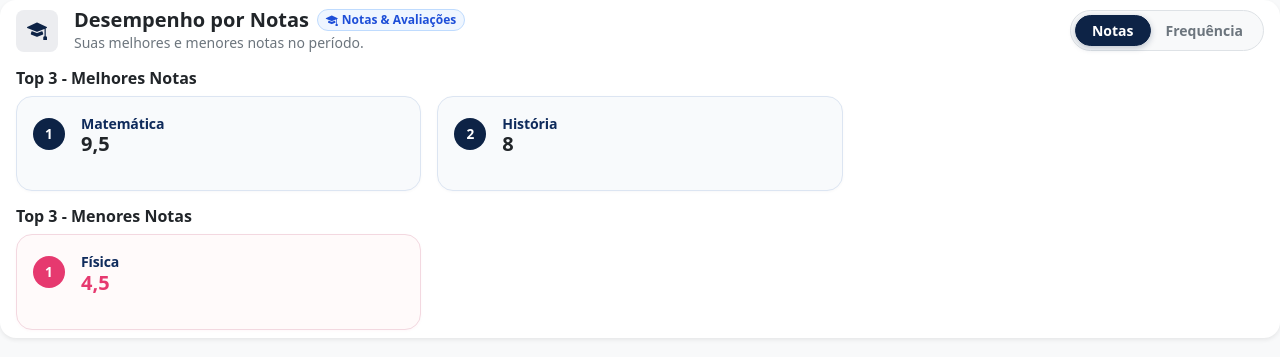
it: DesempenhoDisciplinasCard › renderiza o card de desempenho com padrão visual de notas e permite alternar para frequência
Expected: the heading "Desempenho por Notas" is shown, x1=74 y1=8 x2=309 y2=32
Expected: the text "Notas & Avaliações" is shown, x1=317 y1=9 x2=465 y2=32
Alterna para Frequência
Click the button "Frequência". click: [1204, 30]
box: x1=1150 y1=15 x2=1259 y2=46
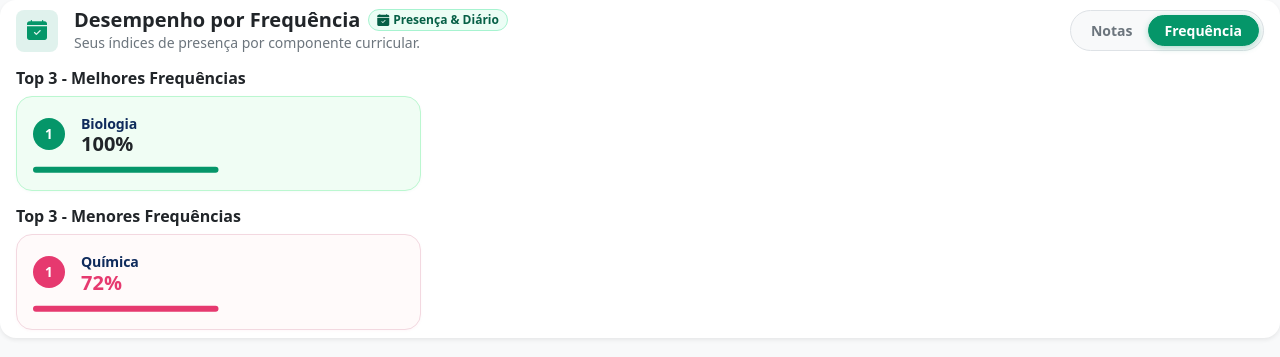
Expected: the heading "Desempenho por Frequência" is shown, x1=74 y1=8 x2=360 y2=32
Expected: the text "Presença & Diário" is shown, x1=368 y1=9 x2=508 y2=32
Expected: the text "Biologia" is shown, x1=81 y1=113 x2=137 y2=134
